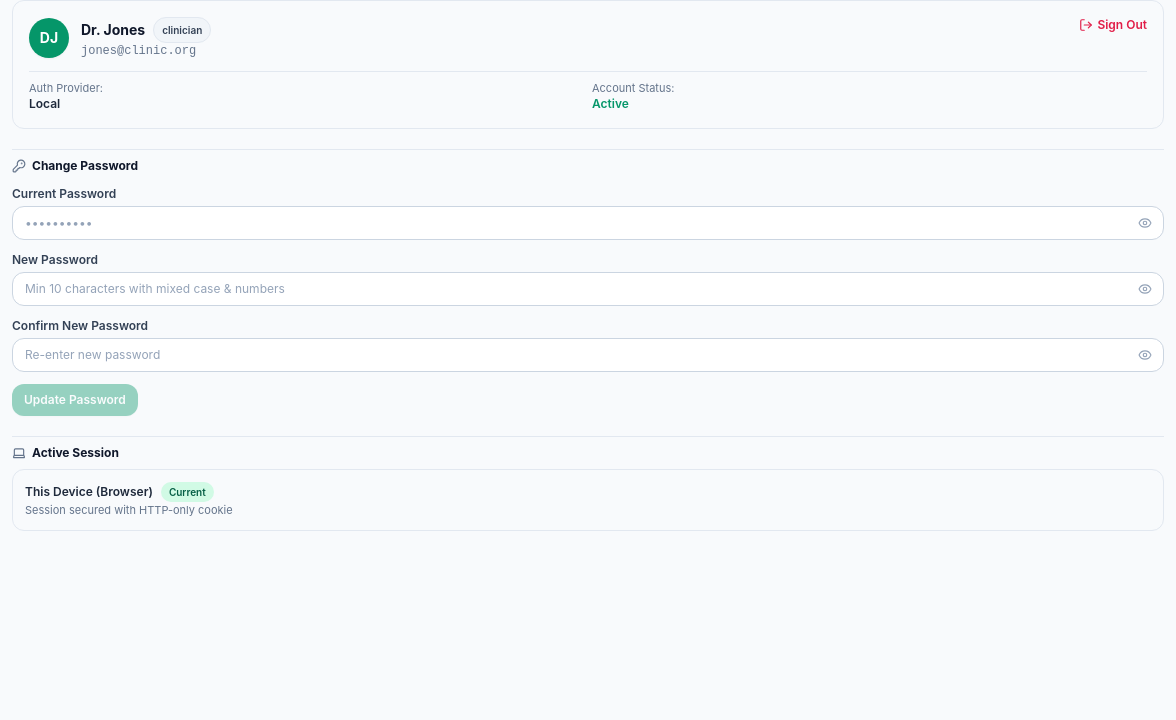
Scenario: SecurityProfilePanel › keeps update button disabled when newPassword and confirmPassword do not match
Expected: the text "Dr. Jones" is shown, x1=81 y1=20 x2=145 y2=40
Type "OldPass123!" into the password field with test id "current-password-input".
click(588, 223); type("OldPass123!")  # box x1=12 y1=206 x2=1164 y2=240
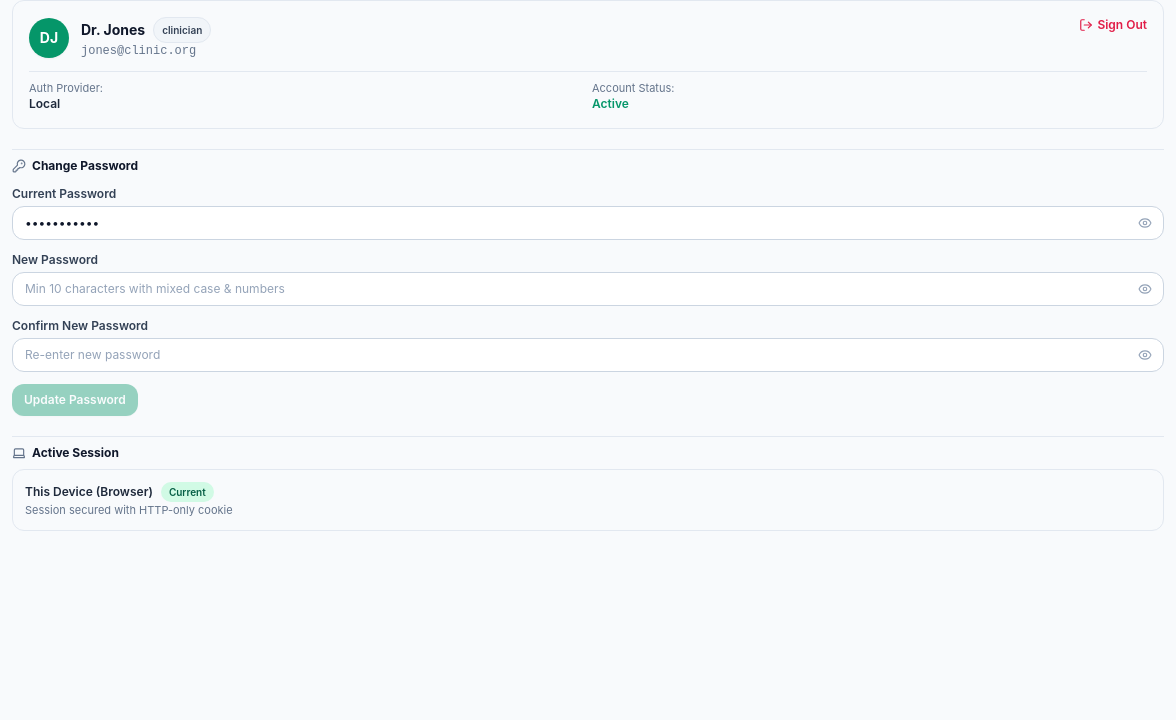
Type "NewSuperPass456!" into the password field with test id "new-password-input".
click(588, 289); type("NewSuperPass456!")  # box x1=12 y1=272 x2=1164 y2=306
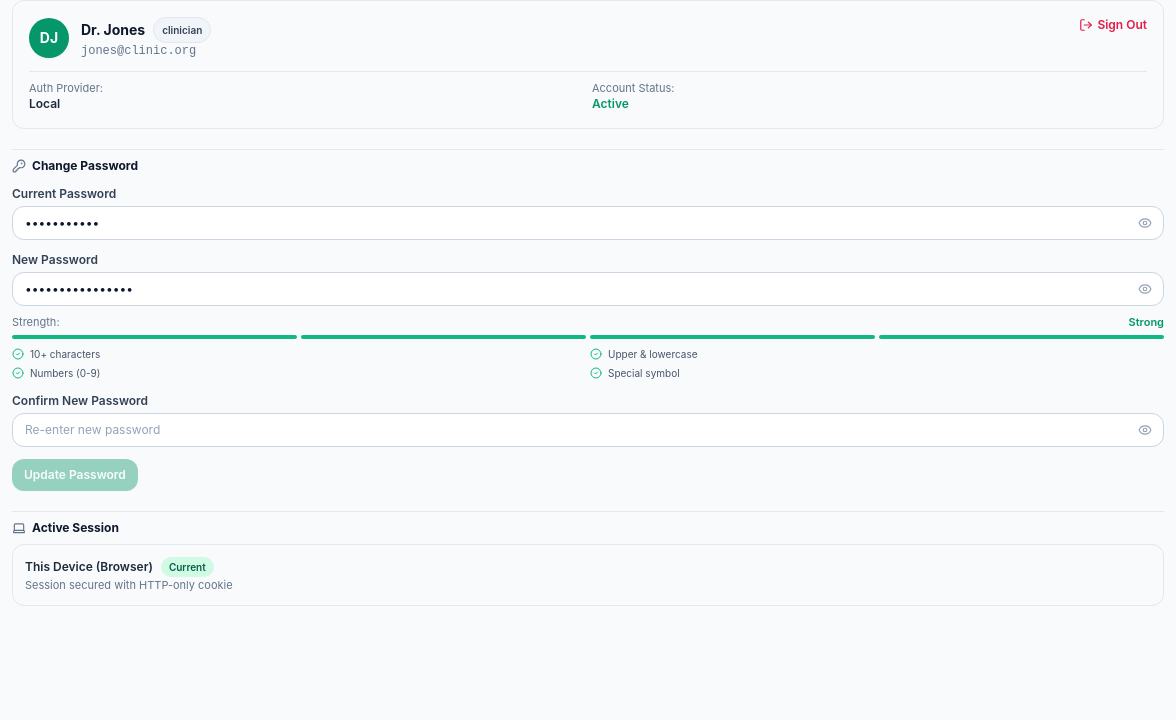
Type "MismatchPass789!" into the password field with test id "confirm-password-input".
click(588, 430); type("MismatchPass789!")  # box x1=12 y1=412 x2=1164 y2=446
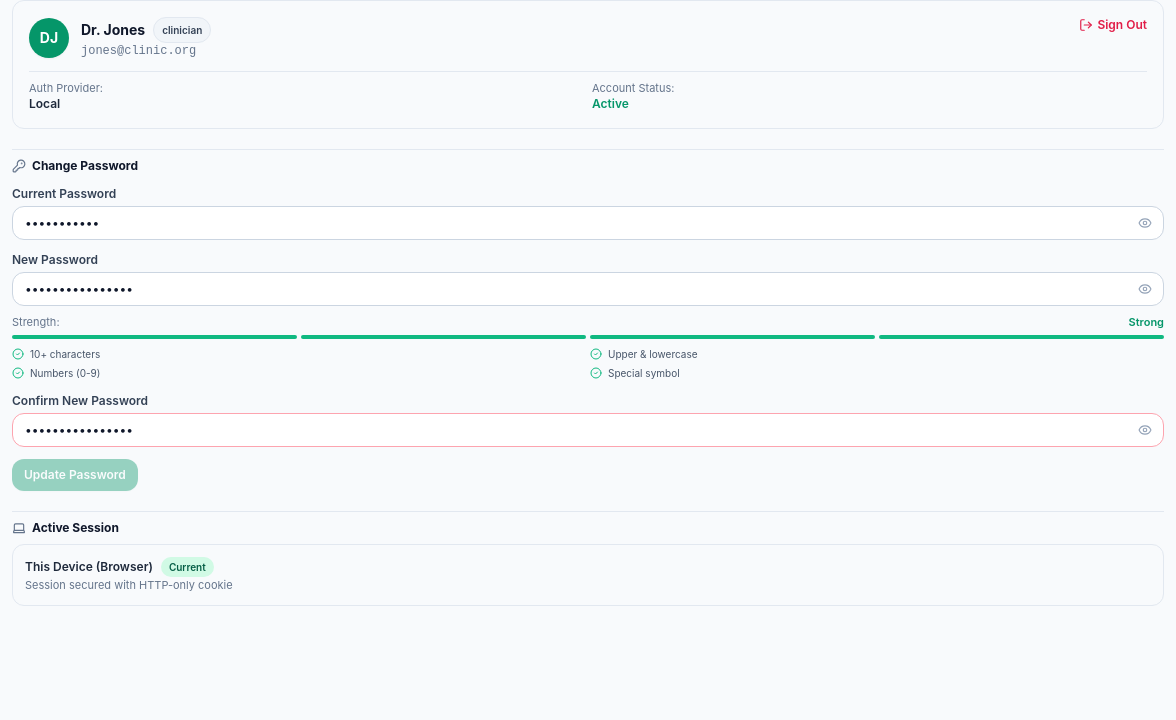
Expected: the button with test id "update-password-submit-btn" is disabled, x1=12 y1=458 x2=138 y2=490
# Now correct confirm password to match
Type "NewSuperPass456!" into the password field with test id "confirm-password-input".
click(588, 430); type("NewSuperPass456!")  # box x1=12 y1=412 x2=1164 y2=446
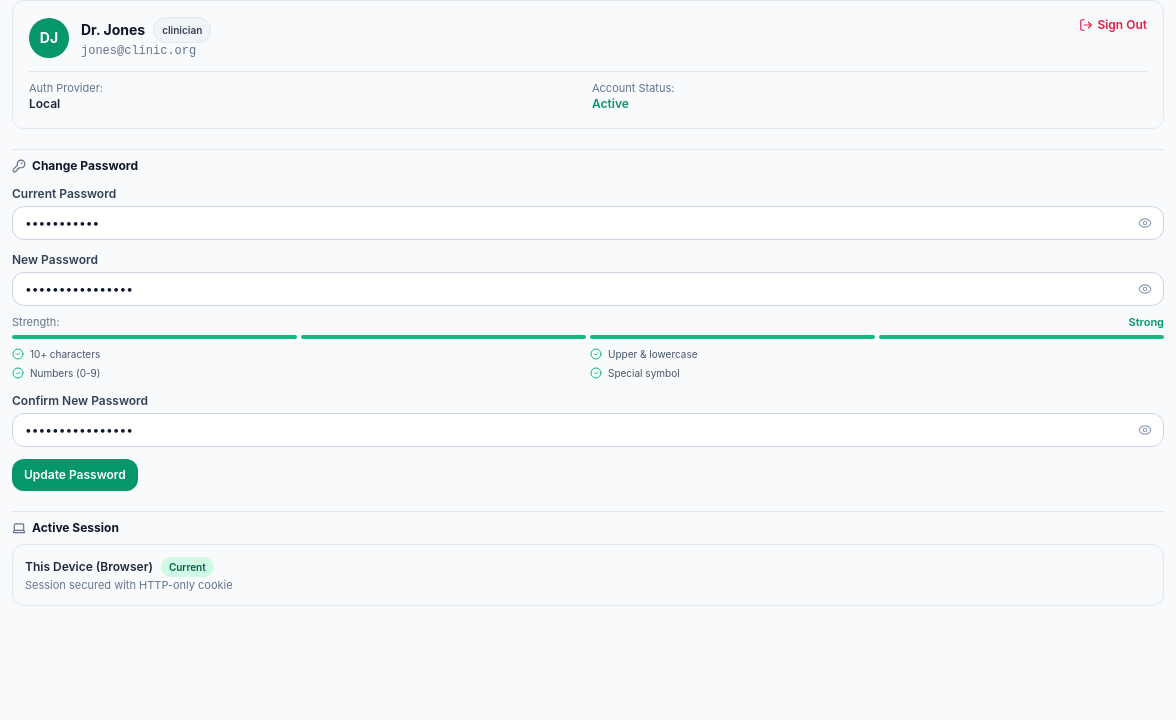
Now the button with test id "update-password-submit-btn" is enabled, box x1=12 y1=458 x2=138 y2=490
